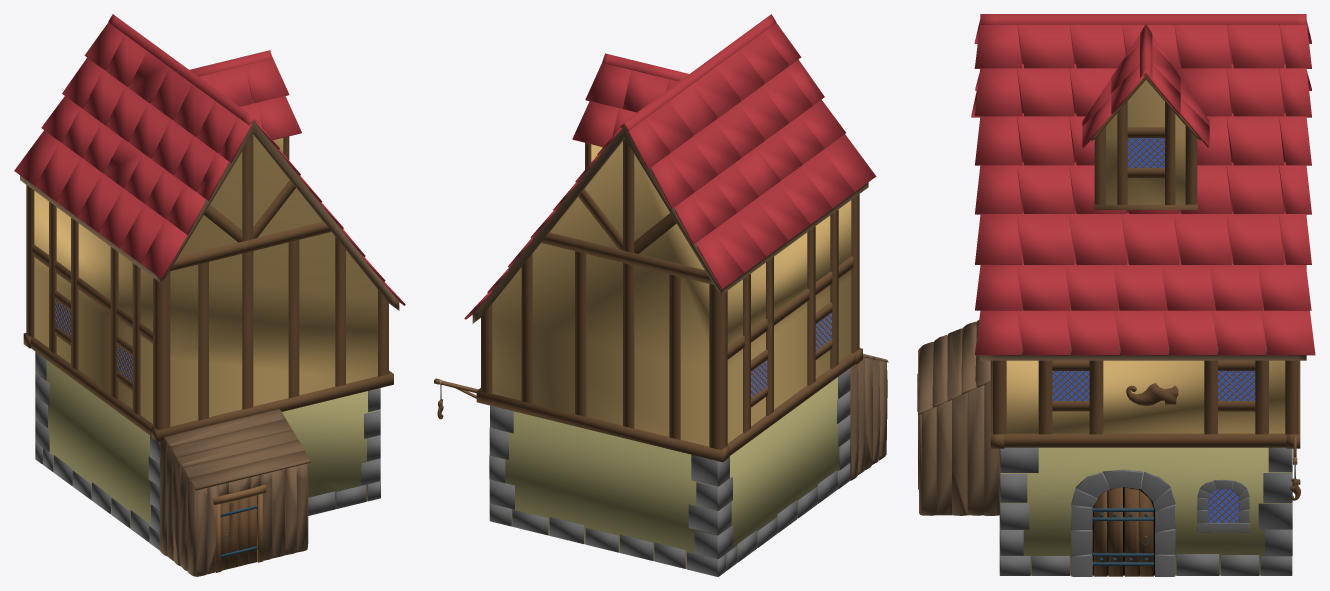
File: building1.glb
3 renders of one model, left to right at view 1: azimuth 30°, elevation 25°; view 2: azimuth 150°, elevation 25°; view 3: azimuth 270°, elevation 25°, orthographic. The views are drawn at different scales.
Parts seen in each view (by area): view 1: cobblers; view 2: cobblers; view 3: cobblers.
Part boxes in pixels (x1,y1,x2,y2): cobblers: (14, 14, 405, 576); cobblers: (434, 14, 888, 576); cobblers: (917, 14, 1315, 576).
Size of the model in its own units: 5.12 by 7.28 by 5.4.
